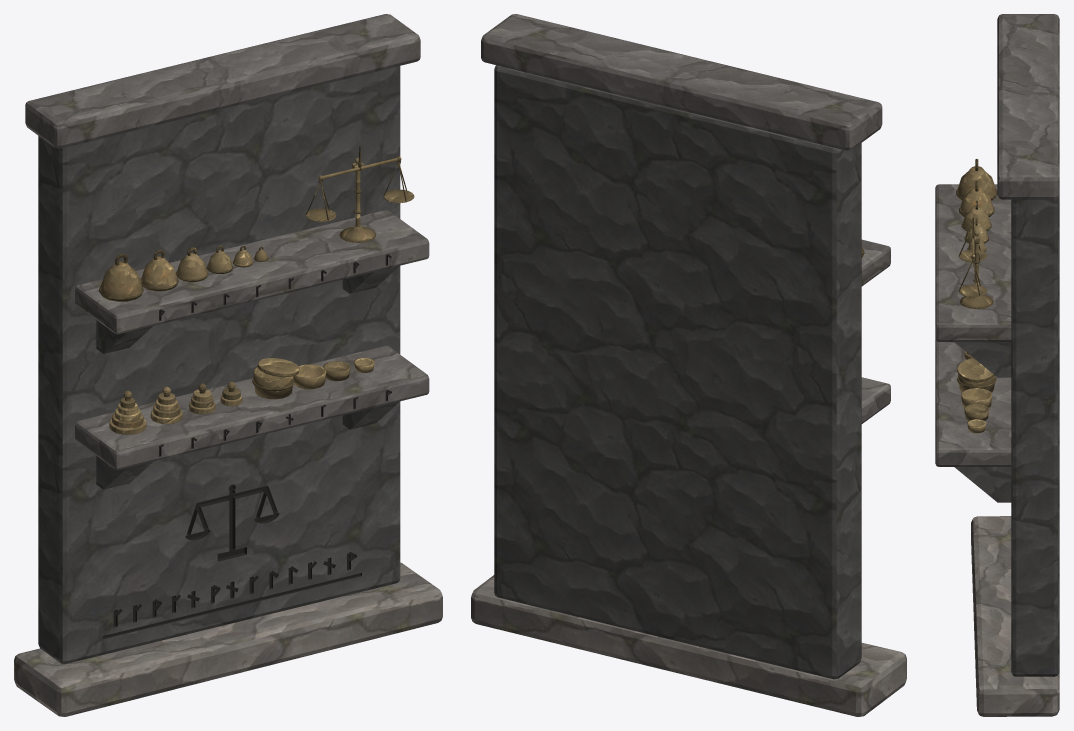
File: bv_weight_shelf.glb
3 renders of one model, left to right at view 1: azimuth 30°, elevation 25°; view 2: azimuth 150°, elevation 25°; view 3: azimuth 270°, elevation 25°, orthographic. The views are drawn at different scales.
Parts seen in each view (by area): view 1: model; view 2: model; view 3: model.
Boxes of the visible parts, <box> form: model: <box>14,14,442,716</box>; model: <box>471,14,906,716</box>; model: <box>935,14,1059,716</box>.
Bounding box in the file's own units: 1.2 × 1.72 × 0.36.
8 materials, 7 textured.
